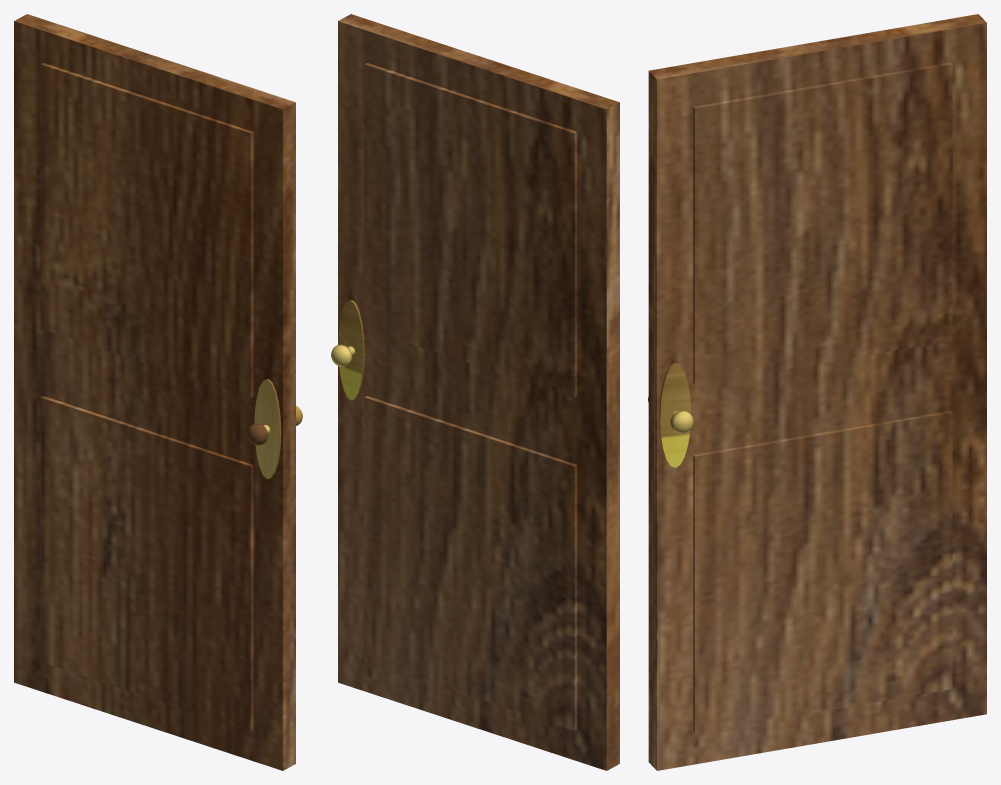
Rendered from porte.fbx.
The picture shows the model from 3 angles, left to right: view 1: azimuth 30°, elevation 25°; view 2: azimuth 210°, elevation 25°; view 3: azimuth 270°, elevation 25°; orthographic projection. The views are drawn at different scales.
Visible parts, largest first — view 1: Door; view 2: Door; view 3: Door.
Boxes of the visible parts, x1,y1,x2,y2 form: Door: [14, 14, 302, 770]; Door: [331, 14, 619, 770]; Door: [648, 14, 986, 770].
Size of the model in its own units: 85.02 by 371 by 165.
